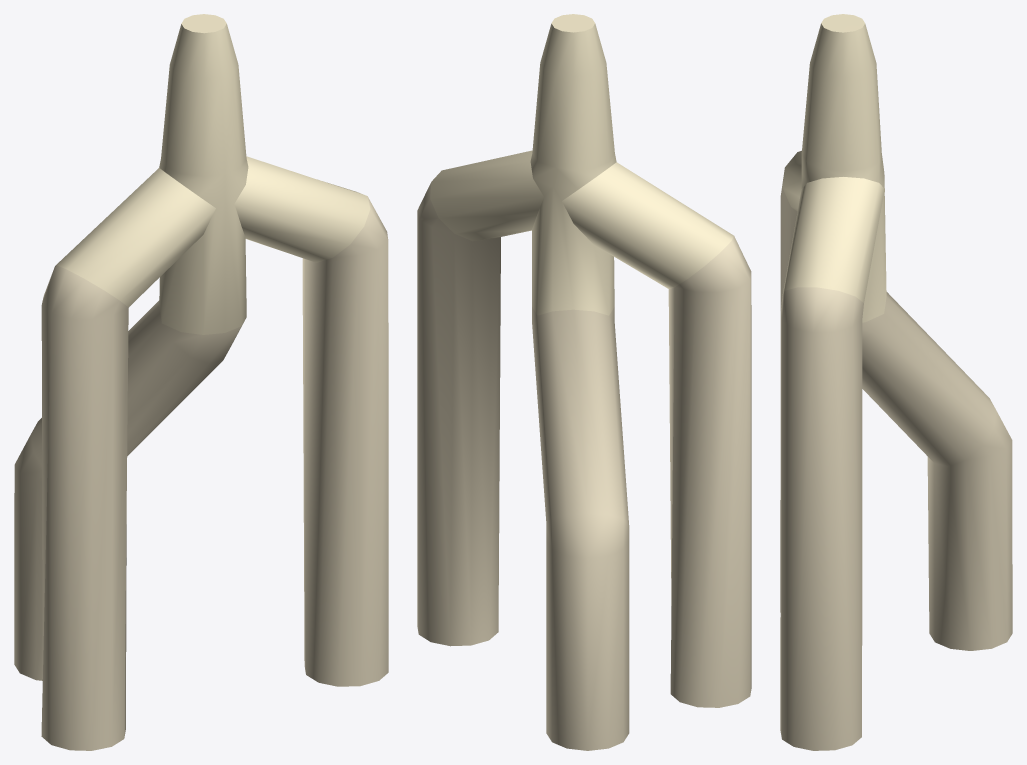
File: pipe_cluster01.fbx
The picture shows the model from 3 angles, left to right: view 1: azimuth 30°, elevation 25°; view 2: azimuth 150°, elevation 25°; view 3: azimuth 270°, elevation 25°; orthographic projection. The views are drawn at different scales.
Parts seen in each view (by area): view 1: pipe_cluster01_reference; view 2: pipe_cluster01_reference; view 3: pipe_cluster01_reference.
Part boxes in pixels (x1,y1,x2,y2): pipe_cluster01_reference: [14, 14, 388, 750]; pipe_cluster01_reference: [417, 14, 751, 750]; pipe_cluster01_reference: [780, 14, 1012, 750].
Bounding box in the file's own units: 57254 × 108998 × 35363.
